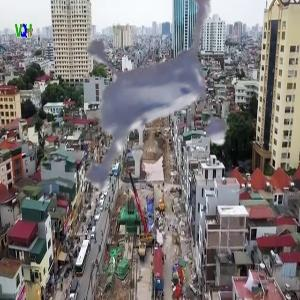drone: (24, 2, 274, 252)
